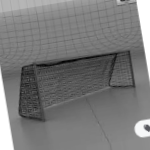goals: (17, 48, 138, 122)
